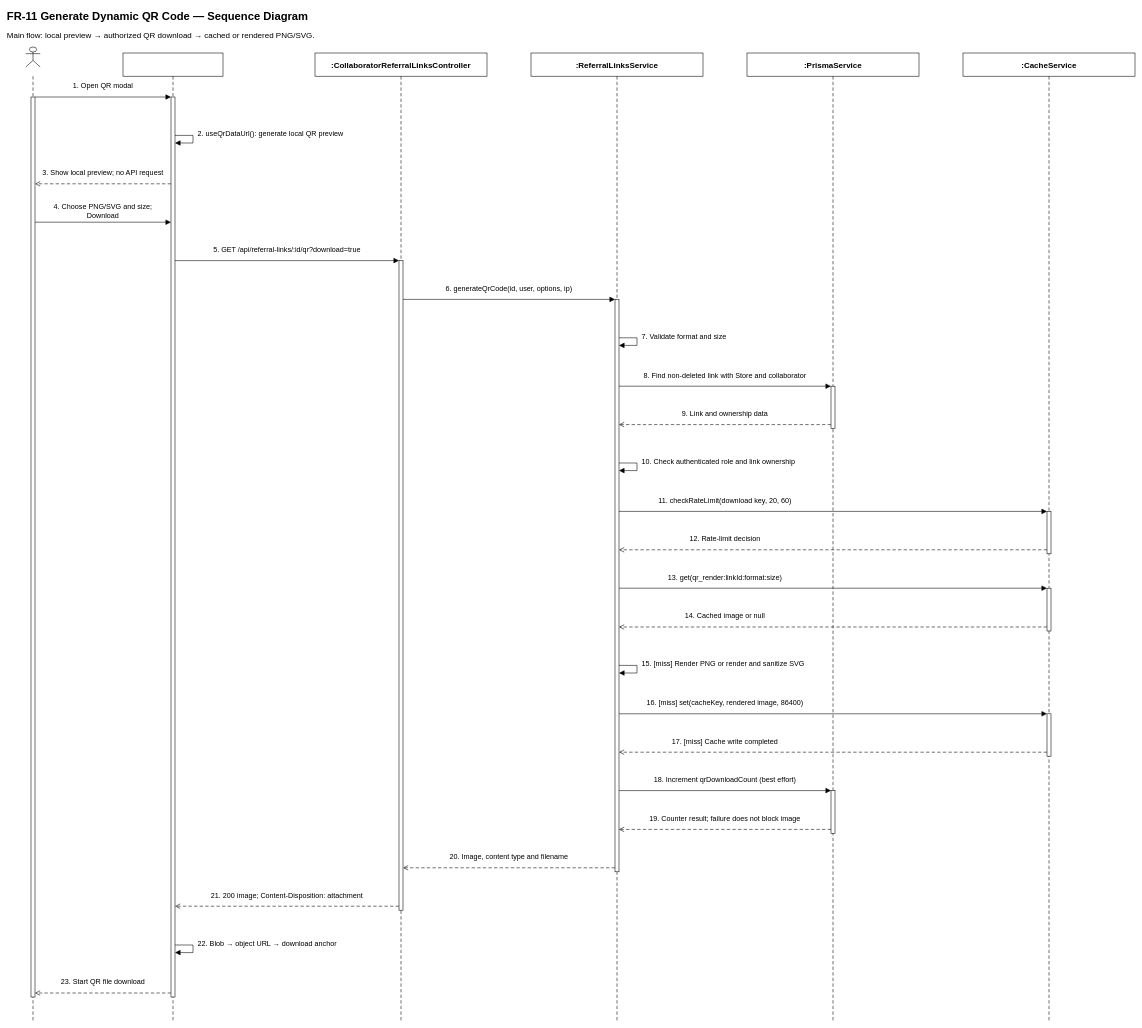
The diagram is 1142 pixels wide and 1028 high, and some of its shapes have lost their labels. The shapes that lost their labels are listed below. From the top down, each one's box as (x1, y1, x2, y2) in pixels, then its label:
(25, 47, 40, 67): KOL
(123, 53, 223, 76): Browser
